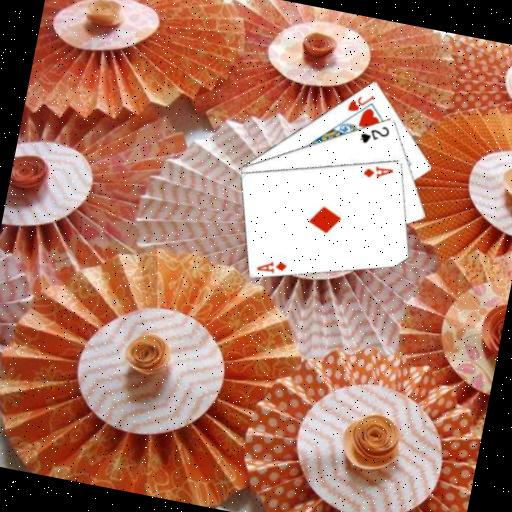2S: (357, 119, 393, 150)
AD: (360, 160, 396, 183), (253, 254, 289, 277)
JH: (344, 88, 377, 117)
